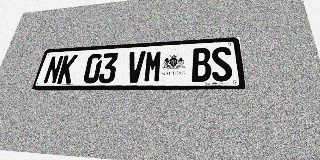0: (82, 53, 103, 83)
3: (98, 53, 119, 83)
B: (192, 48, 212, 82)
K: (56, 55, 78, 84)
M: (143, 50, 163, 83)
N: (42, 55, 64, 84)
S: (211, 46, 233, 82)
V: (125, 51, 146, 83)
